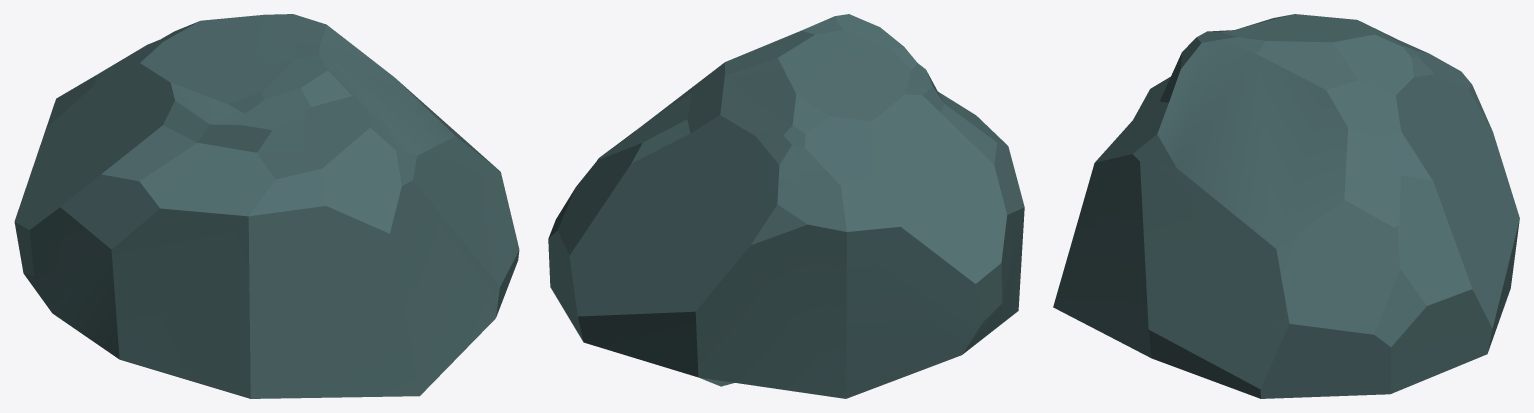
File: rock 2.fbx
The picture shows the model from 3 angles, left to right: view 1: azimuth 30°, elevation 25°; view 2: azimuth 150°, elevation 25°; view 3: azimuth 270°, elevation 25°; orthographic projection. The views are drawn at different scales.
Parts seen in each view (by area): view 1: launchRock; view 2: launchRock; view 3: launchRock.
Boxes of the visible parts, <box> form: launchRock: <box>14,14,519,398</box>; launchRock: <box>548,14,1024,398</box>; launchRock: <box>1053,14,1519,398</box>.
Bounding box in the file's own units: 86.41 × 53.93 × 81.52.
